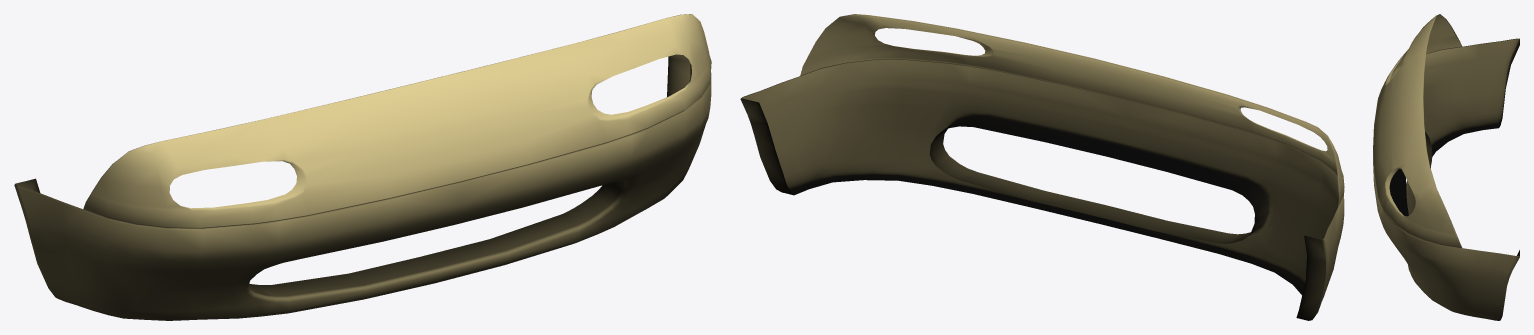
Rendered from MX5_FB01_Duco.fbx.
3 views of the same model, side by side, from view 1: azimuth 30°, elevation 25°; view 2: azimuth 150°, elevation 25°; view 3: azimuth 270°, elevation 25° (orthographic). The views are drawn at different scales.
Visible parts, largest first — view 1: MX5_FB01_Duco; view 2: MX5_FB01_Duco; view 3: MX5_FB01_Duco.
Boxes of the visible parts, <box> form: MX5_FB01_Duco: <box>14,14,711,320</box>; MX5_FB01_Duco: <box>740,14,1344,320</box>; MX5_FB01_Duco: <box>1373,14,1519,320</box>.
Size of the model in its own units: 157 by 43.14 by 44.65.
